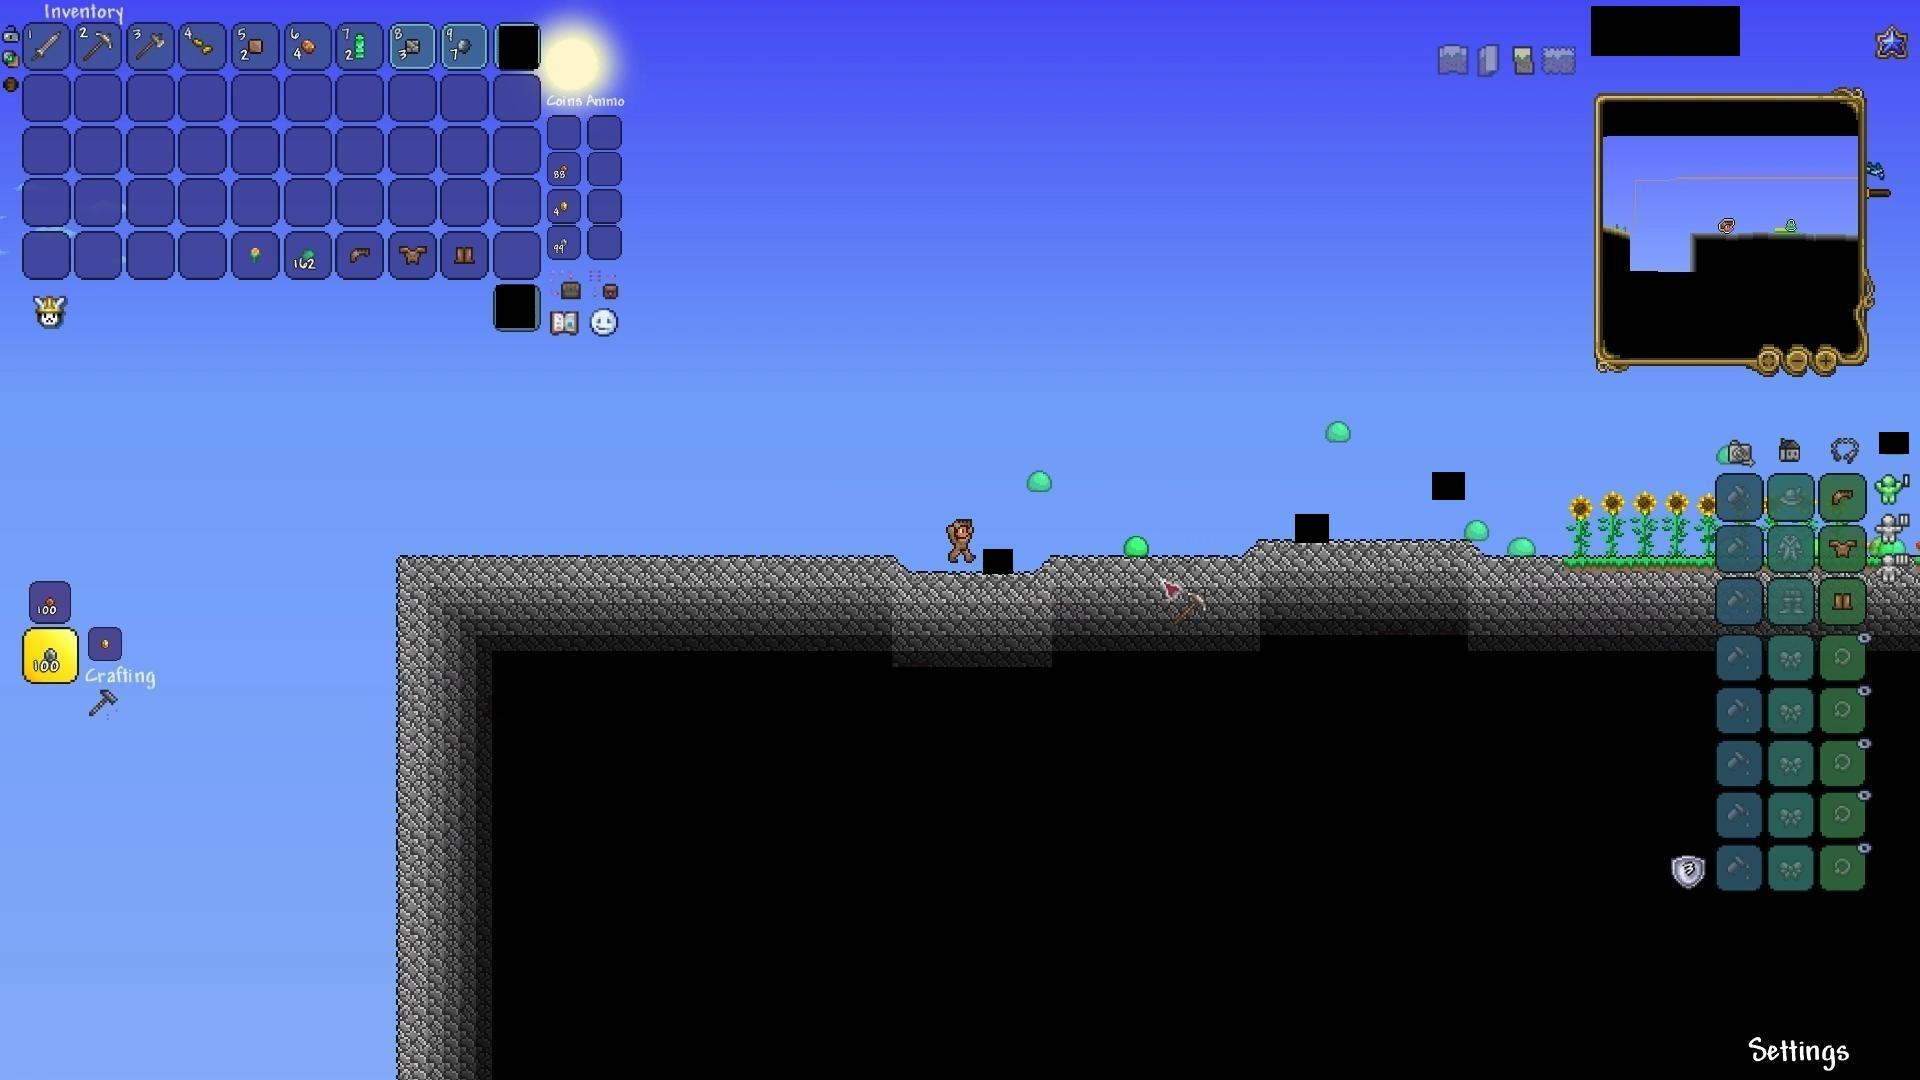breastplate: (1832, 535, 1859, 559), (397, 243, 429, 262)
dirt: (1561, 554, 1717, 568)
helmet: (345, 243, 375, 268), (1830, 483, 1858, 508)
legs: (1832, 587, 1857, 616), (452, 243, 477, 266)
slime: (1025, 465, 1056, 495), (1324, 418, 1356, 446), (1120, 531, 1151, 558), (1461, 518, 1491, 545), (1505, 533, 1535, 556)
